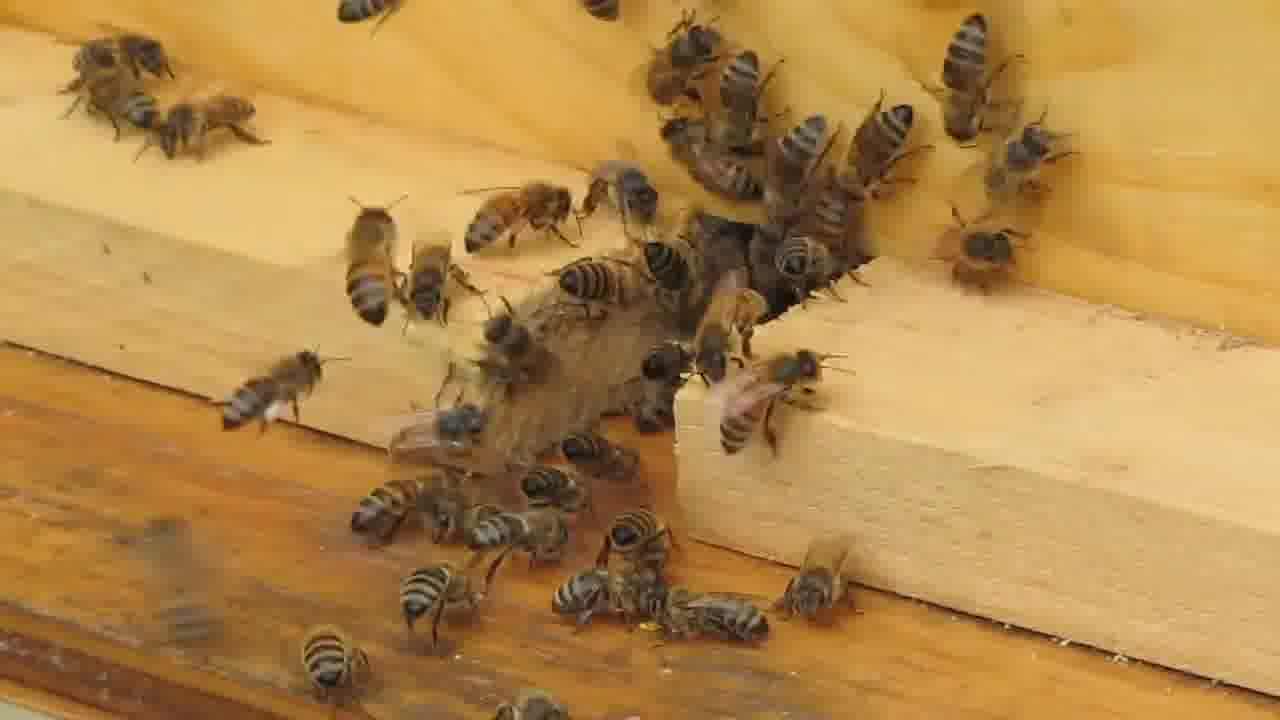pollen: (219, 349, 332, 439)
